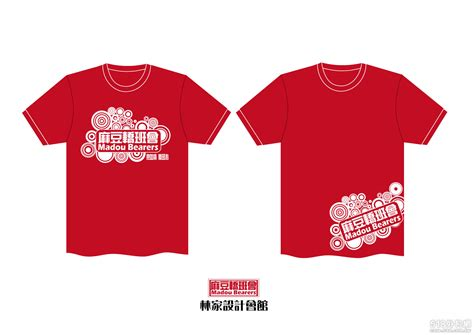flexible: (21, 62, 236, 257), (237, 62, 450, 257)
